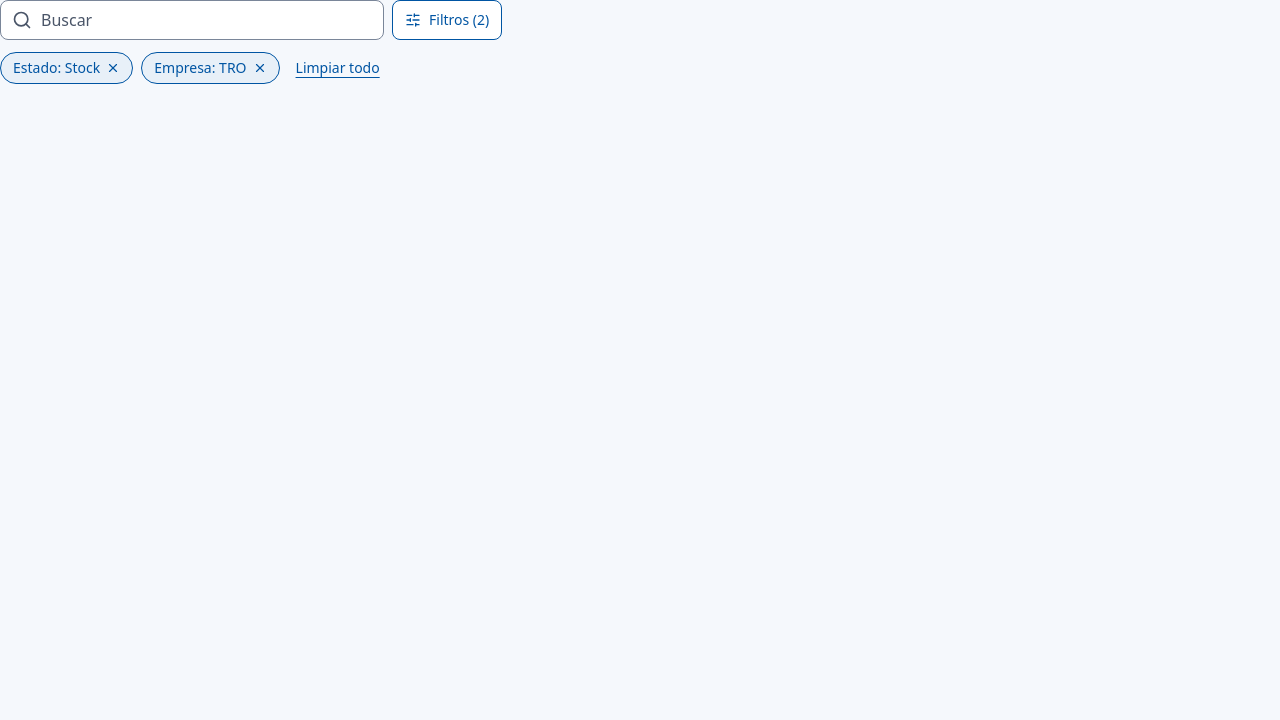
BarraFiltros en el teléfono › todos los filtros van en el panel y «Ver N resultados» lo cierra
Click the button "Filtros (2)": click(447, 20) [392,0,502,40]
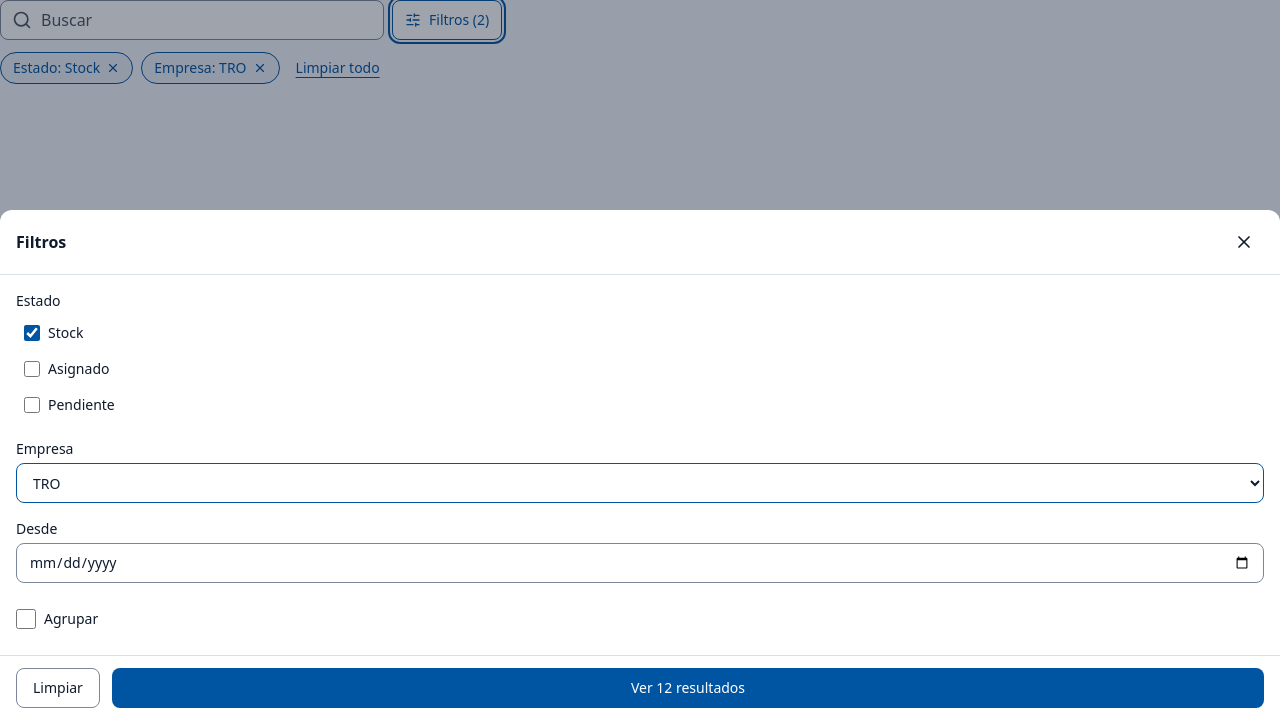
Click the checkbox labelled "Asignado": click(32, 369) [24,361,40,377]
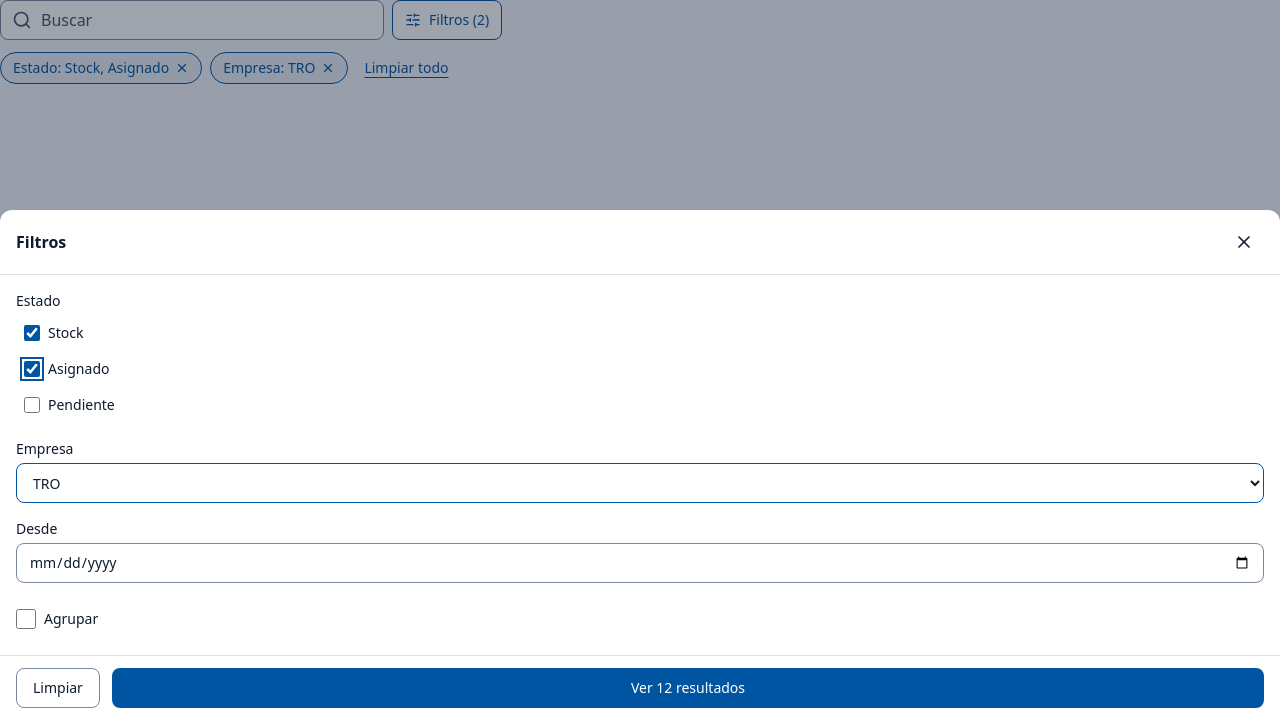
Click the button "Ver 12 resultados": click(688, 688) [112,668,1264,708]
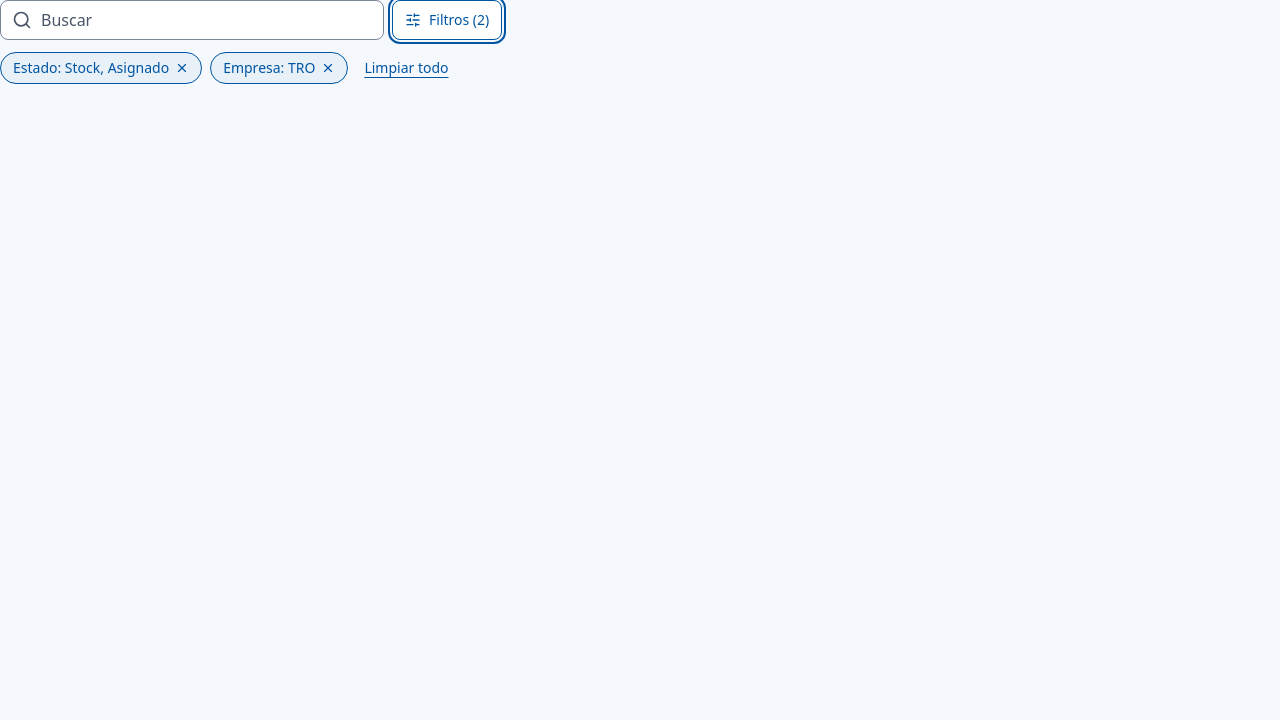
Expected: the button with aria-label "Quitar filtro Estado: Stock, Asignado" is shown, [0,52,202,84]
Expected: the dialog is gone
